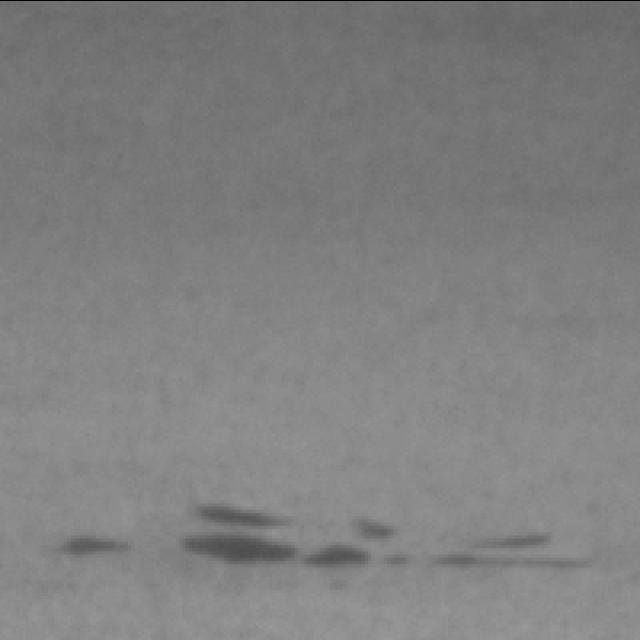inclusion: (162, 490, 302, 580), (463, 502, 591, 589), (307, 499, 437, 583), (38, 506, 134, 579)
